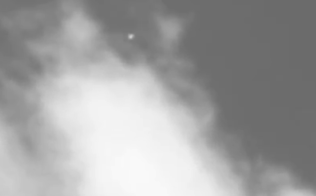Target: (129, 35, 134, 39)
